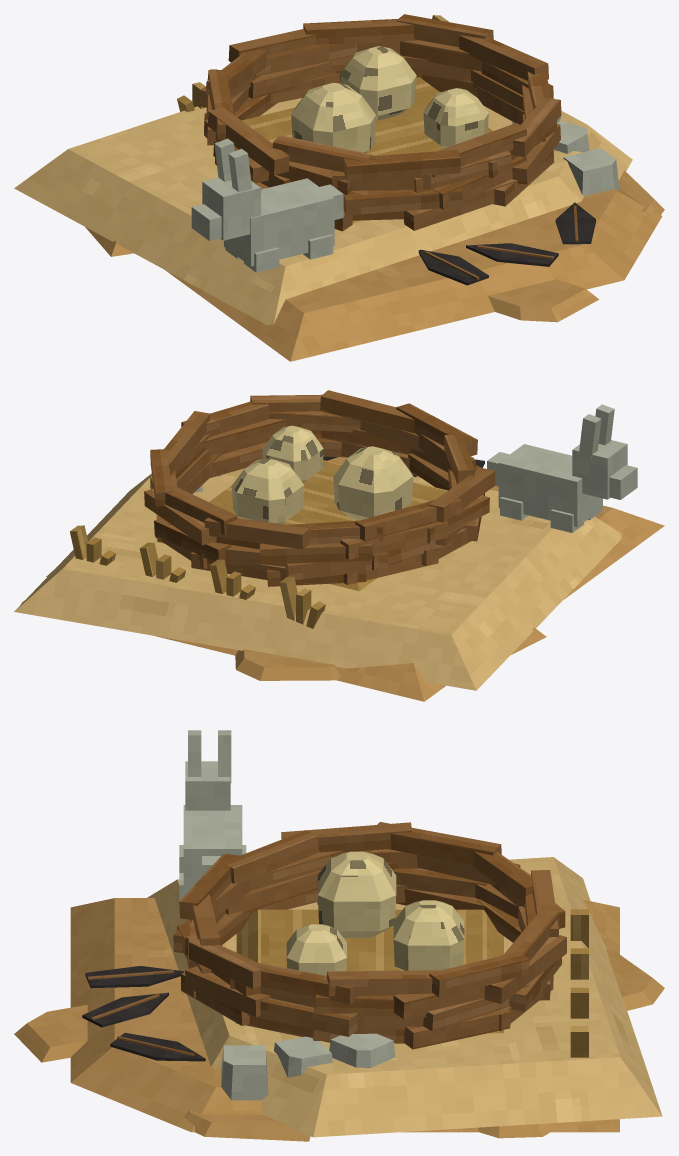
The model's file is basilisk_lair_v2.glb.
3 renders of one model, top to bottom at view 1: azimuth 30°, elevation 25°; view 2: azimuth 150°, elevation 25°; view 3: azimuth 270°, elevation 25°, orthographic. The views are drawn at different scales.
Visible parts, largest first — view 1: Model; view 2: Model; view 3: Model.
Boxes of the visible parts, x1=… form: Model: x1=14, y1=14, x2=664, y2=361; Model: x1=14, y1=390, x2=664, y2=701; Model: x1=14, y1=730, x2=664, y2=1141.
Size of the model in its own units: 1.16 by 0.3737 by 1.24.
1 material, 1 textured.
